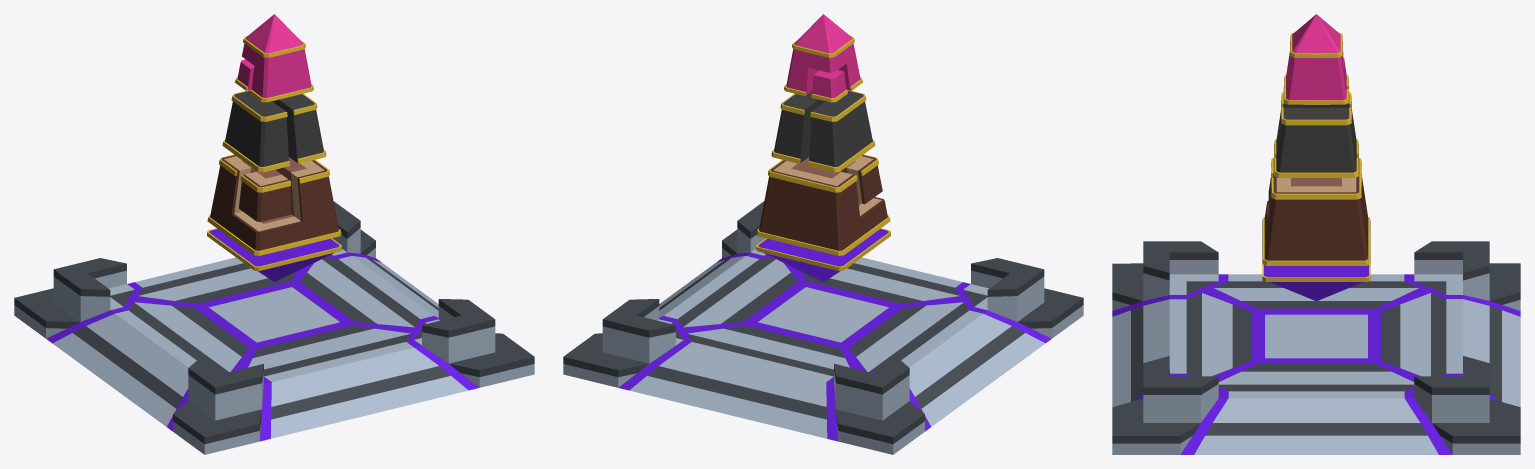
Rendered from Model_Obelisk_Stage3.fbx.
3 views of the same model, side by side, from view 1: azimuth 30°, elevation 25°; view 2: azimuth 150°, elevation 25°; view 3: azimuth 270°, elevation 25° (orthographic). The views are drawn at different scales.
Parts seen in each view (by area): view 1: Buildsite, Obelisk Stage 1, Obelisk Stage 2, Obelisk Stage 3; view 2: Buildsite, Obelisk Stage 1, Obelisk Stage 2, Obelisk Stage 3; view 3: Buildsite, Obelisk Stage 1, Obelisk Stage 2, Obelisk Stage 3.
Boxes of the visible parts, left/top/right/bottom form: Buildsite: left=14, top=201, right=534, bottom=454; Obelisk Stage 1: left=207, top=154, right=341, bottom=255; Obelisk Stage 2: left=222, top=89, right=326, bottom=172; Obelisk Stage 3: left=235, top=14, right=313, bottom=102; Buildsite: left=563, top=201, right=1083, bottom=454; Obelisk Stage 1: left=756, top=154, right=890, bottom=255; Obelisk Stage 2: left=771, top=89, right=875, bottom=172; Obelisk Stage 3: left=784, top=14, right=862, bottom=102; Buildsite: left=1112, top=241, right=1520, bottom=454; Obelisk Stage 1: left=1262, top=158, right=1370, bottom=265; Obelisk Stage 2: left=1274, top=92, right=1358, bottom=177; Obelisk Stage 3: left=1283, top=14, right=1349, bottom=104.
Size of the model in its own units: 4338 by 4157 by 4338.
